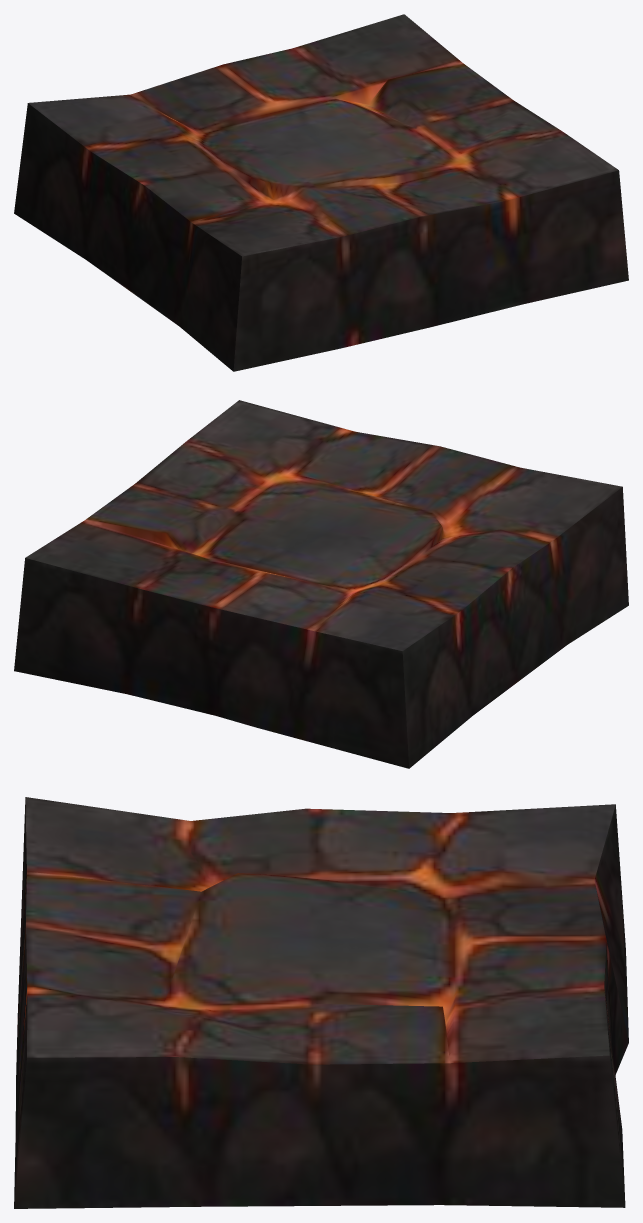
Rendered from b_braises_sol_1_lo.glb.
3 views of the same model, one above another, from view 1: azimuth 30°, elevation 25°; view 2: azimuth 150°, elevation 25°; view 3: azimuth 270°, elevation 25° (orthographic). The views are drawn at different scales.
Parts seen in each view (by area): view 1: geometry_0; view 2: geometry_0; view 3: geometry_0.
Boxes of the visible parts, bbox=[...] form: geometry_0: bbox=[14, 14, 628, 371]; geometry_0: bbox=[14, 400, 628, 768]; geometry_0: bbox=[14, 797, 628, 1208].
Bounding box in the file's own units: 1 × 0.2818 × 0.9941.
Materials: 1 (1 with a texture image).
